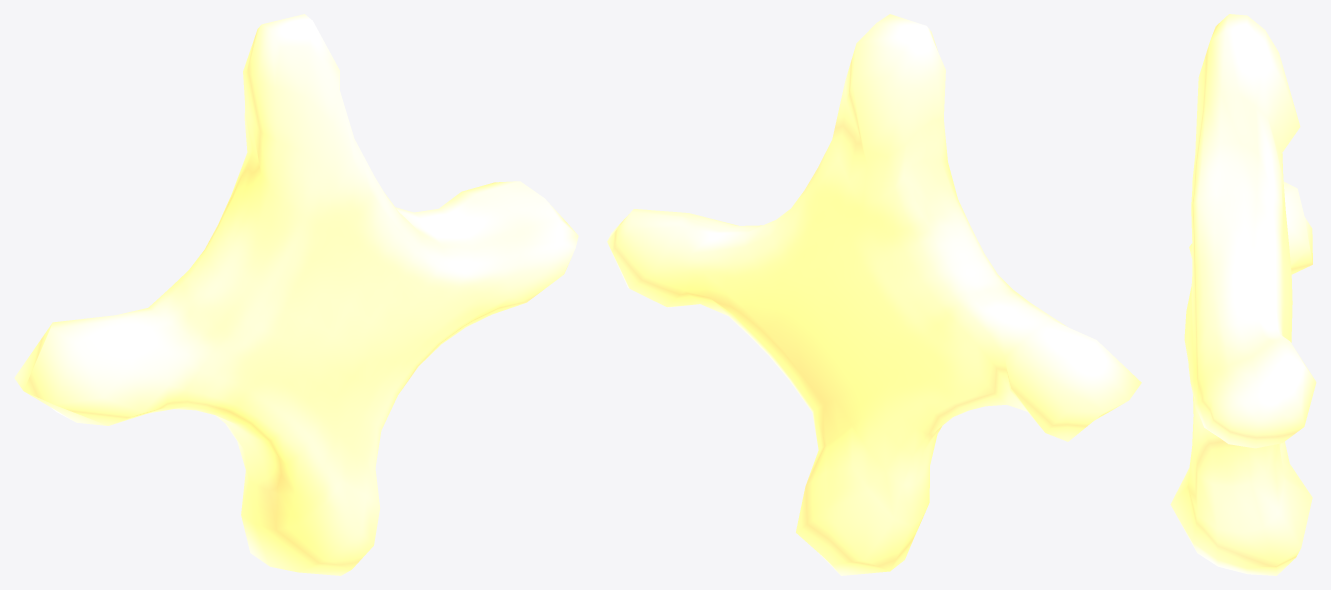
Rendered from gwiazdka3_bok.glb.
3 views of the same model, side by side, from view 1: azimuth 30°, elevation 25°; view 2: azimuth 150°, elevation 25°; view 3: azimuth 270°, elevation 25° (orthographic). The views are drawn at different scales.
Parts seen in each view (by area): view 1: Blink4; view 2: Blink4; view 3: Blink4.
Boxes of the visible parts, x1,y1,x2,y2 form: Blink4: (14,14,578,575); Blink4: (607,14,1141,575); Blink4: (1170,14,1316,575).
Bounding box in the file's own units: 0.00726 × 0.0073 × 0.00181.
1 material, 1 textured.
